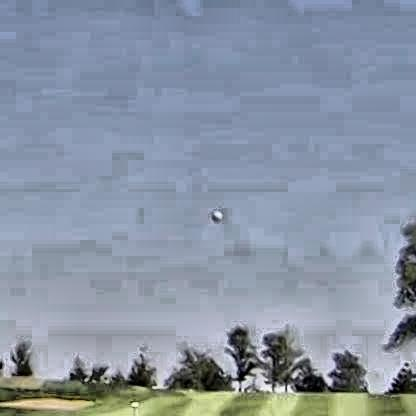golfball: (206, 207, 220, 219)
